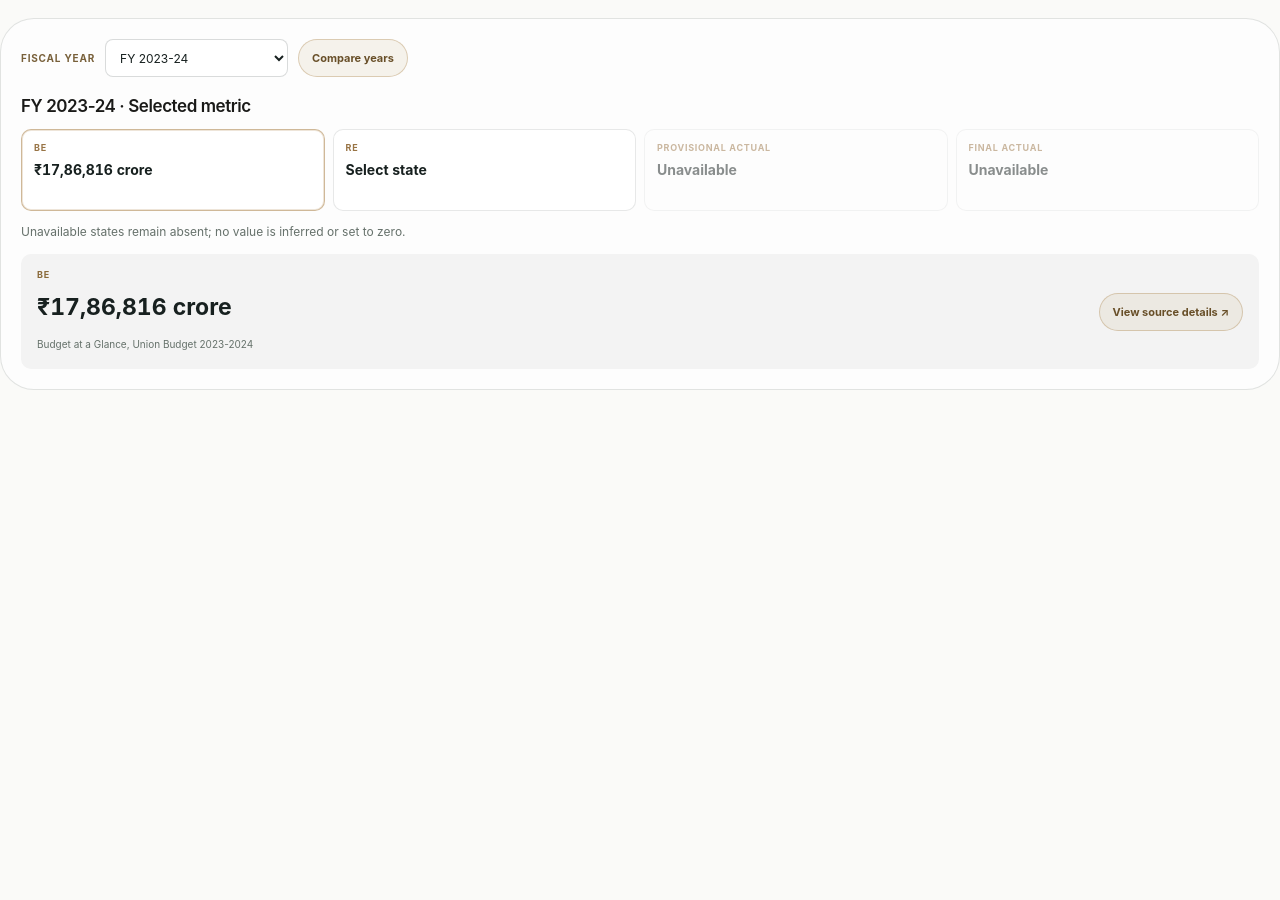
it: Historical fiscal comparison panel › retains the rationale for an Interim Budget comparison note
Expected: the heading "FY 2023-24 · Selected metric" is shown, [21,96,251,116]
Click the button "Compare years" at point(353, 58), box [298,39,408,77]
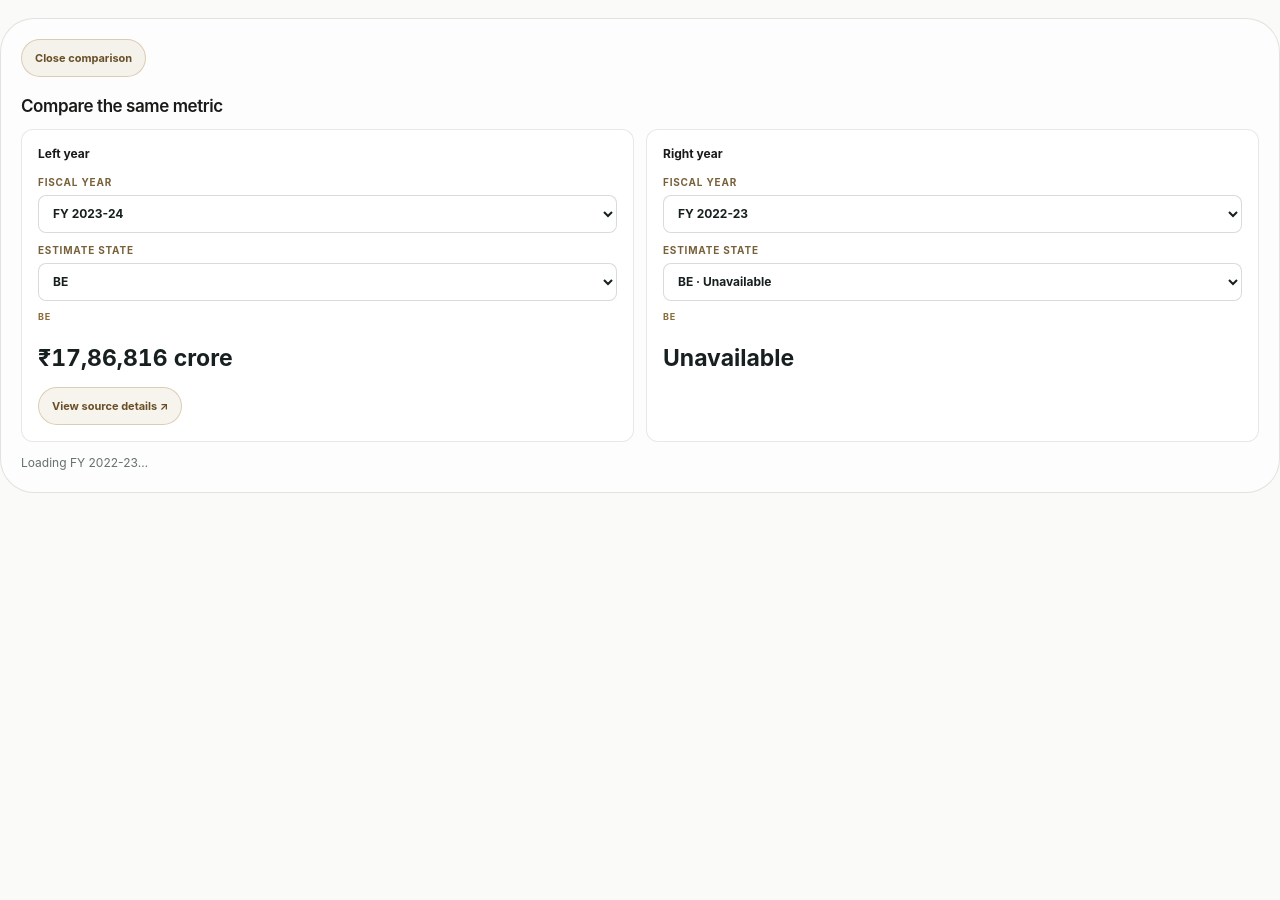
Select "FY 2024-25" in the dropdown labelled "Fiscal year" below "Right year" at point(952, 214), box [663,195,1242,233]
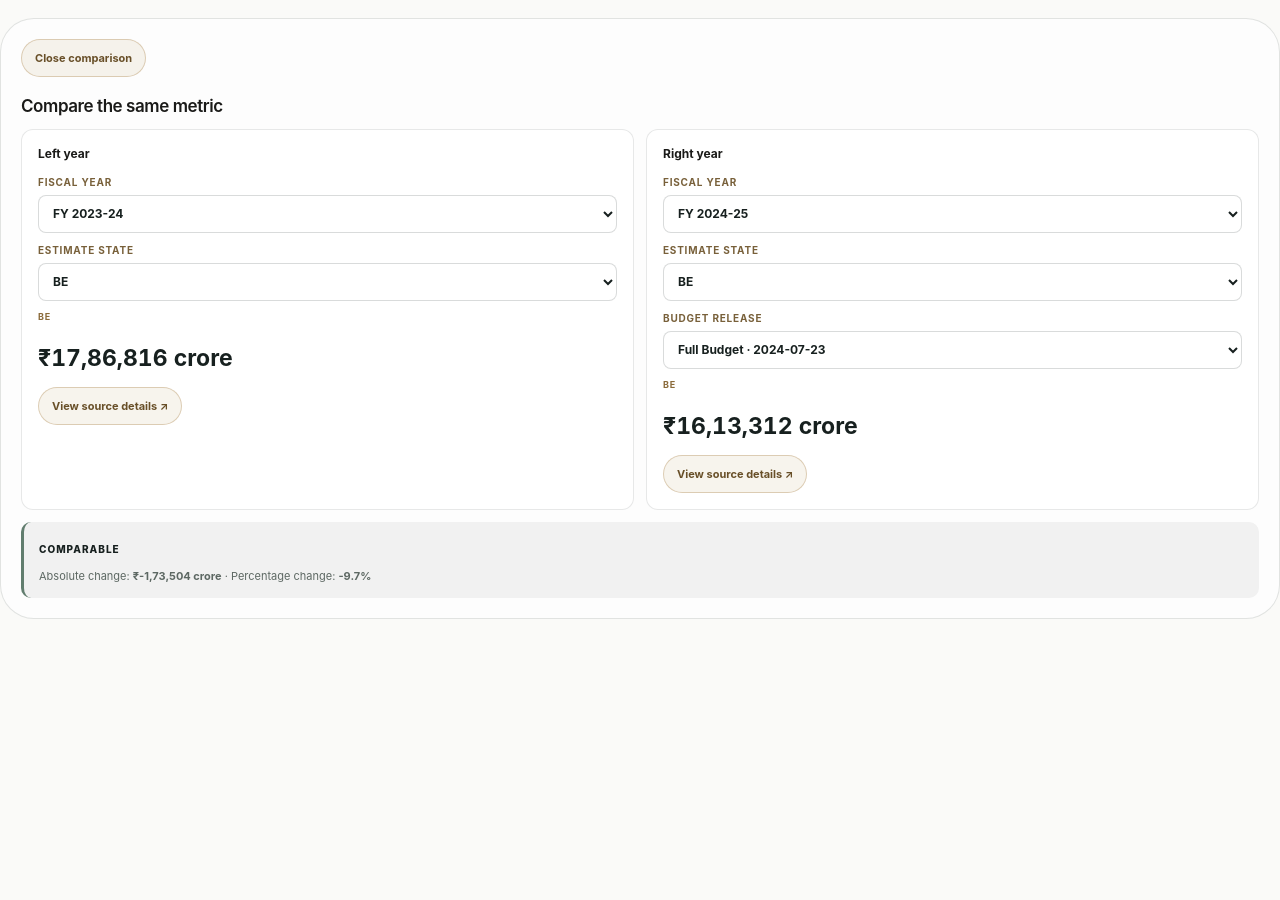
Now the dropdown labelled "Budget release" is shown
Select "Interim Budget · 2024-02-01" in the dropdown labelled "Budget release" at point(952, 350), box [663,331,1242,369]
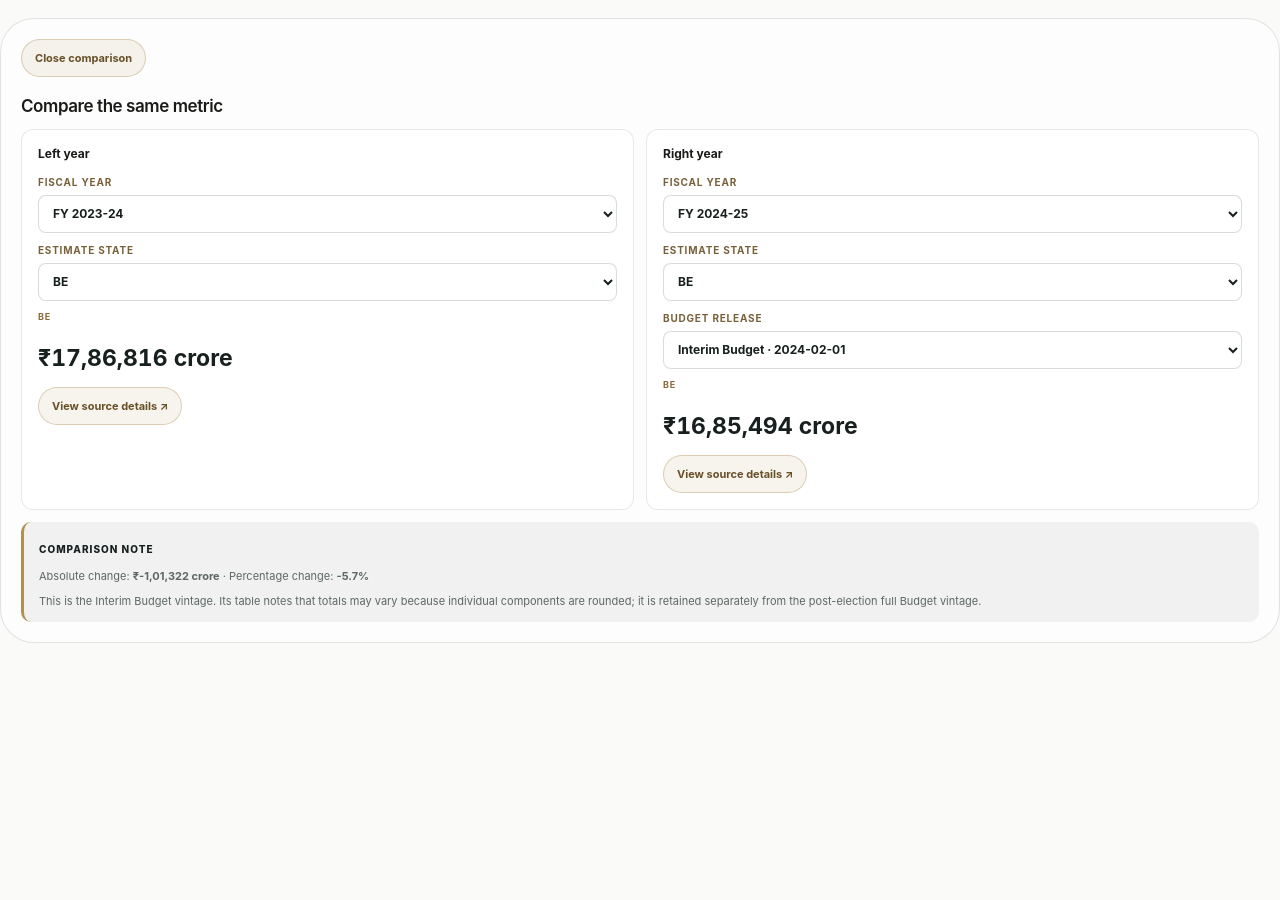
Now the text "Comparison note" is shown, box [39,543,154,555]
Now the text "Interim Budget vintage" is shown, box [39,594,982,608]
